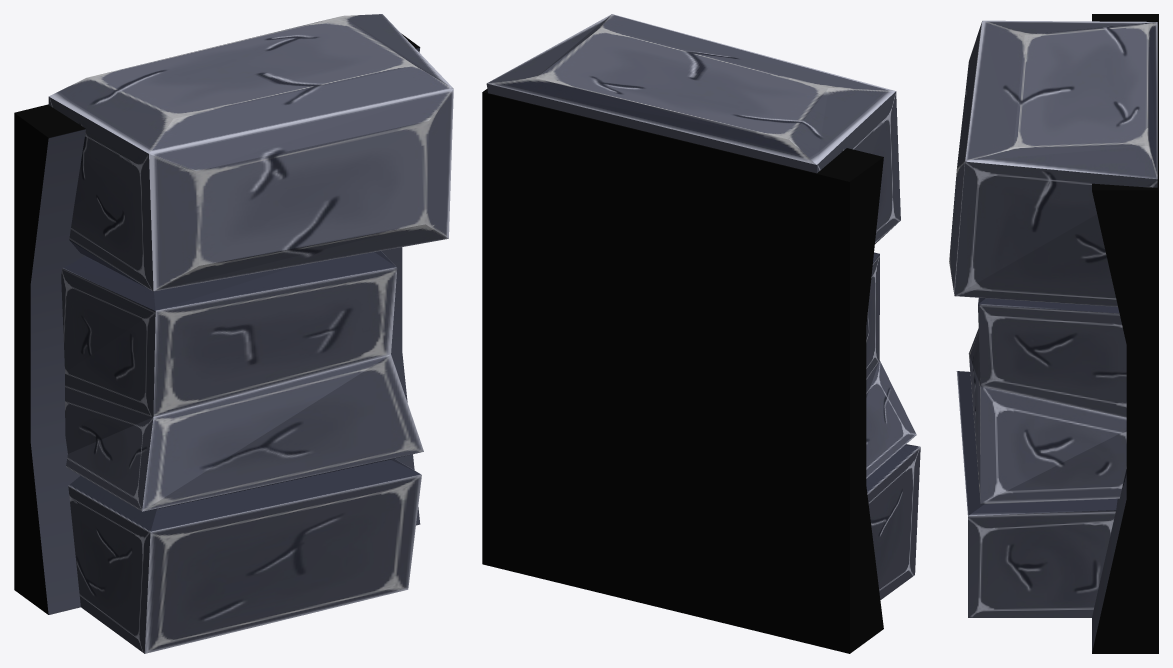
The model's file is Seperator Pole.FBX.
3 renders of one model, left to right at view 1: azimuth 30°, elevation 25°; view 2: azimuth 150°, elevation 25°; view 3: azimuth 270°, elevation 25°, orthographic. The views are drawn at different scales.
Parts seen in each view (by area): view 1: Box043; view 2: Box043; view 3: Box043.
Boxes of the visible parts, <box> form: Box043: <box>14,14,453,653</box>; Box043: <box>482,14,920,653</box>; Box043: <box>949,14,1158,653</box>.
Size of the model in its own units: 246 by 316 by 124.
